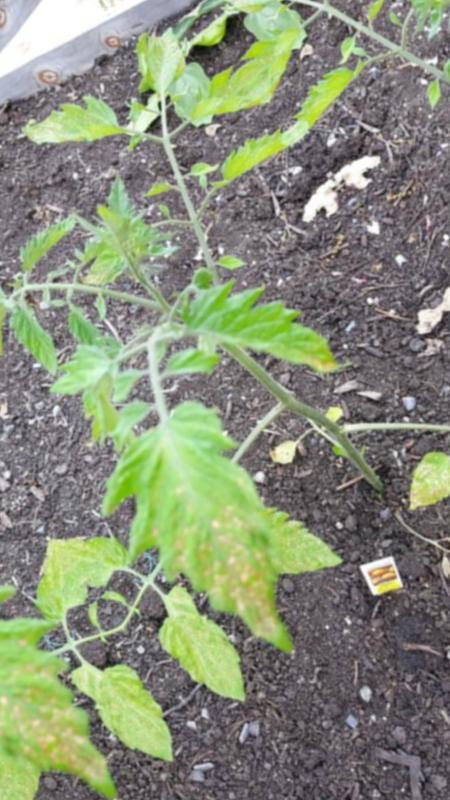Tomato leaf bacterial spot: (67, 360, 373, 685), (164, 238, 357, 435), (11, 67, 139, 195), (106, 19, 205, 120)
